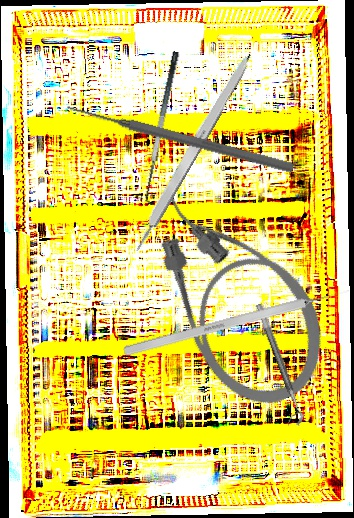Cannula: (132, 162, 346, 425)
Fixation Ring: (245, 302, 307, 430)
Hook Surgical: (122, 286, 351, 357)
Pusher: (65, 99, 295, 176)
Scalpel Handle: (128, 49, 255, 254)
Spatula Surgical: (136, 50, 193, 207)
